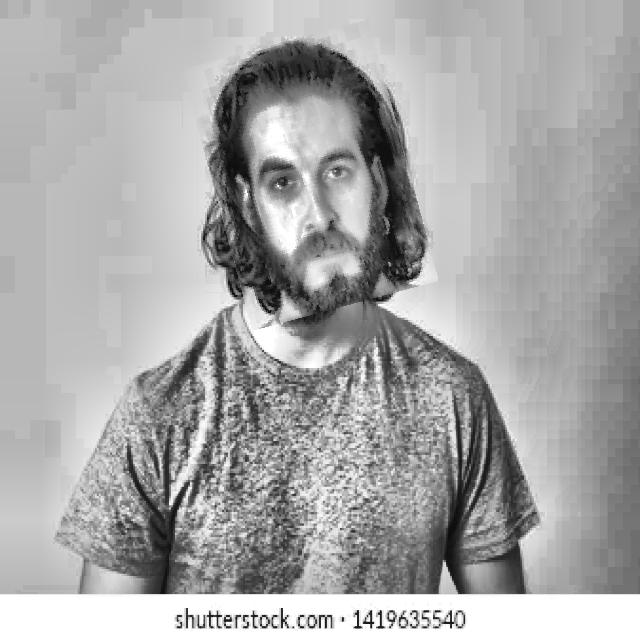neutral: (198, 29, 423, 320)
